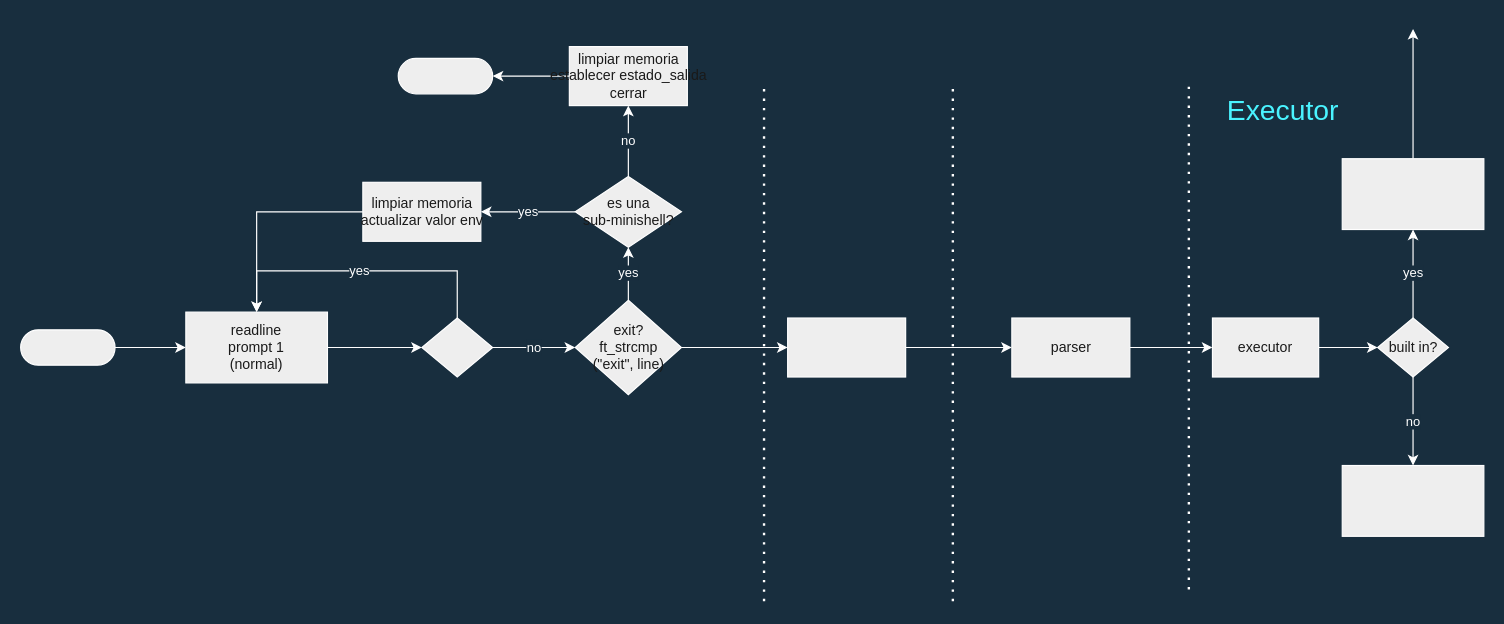
Some shapes in this 1504 by 624 pixel diagram are drawn without their labels. The shapes that lost their labels are listed below. From the top down, each one's centre as x and y in pixels, then its label:
point (445, 75): SALIR
point (67, 347): ./minisehll
point (457, 347): empty line?
point (846, 347): lexer (tokinizer)
